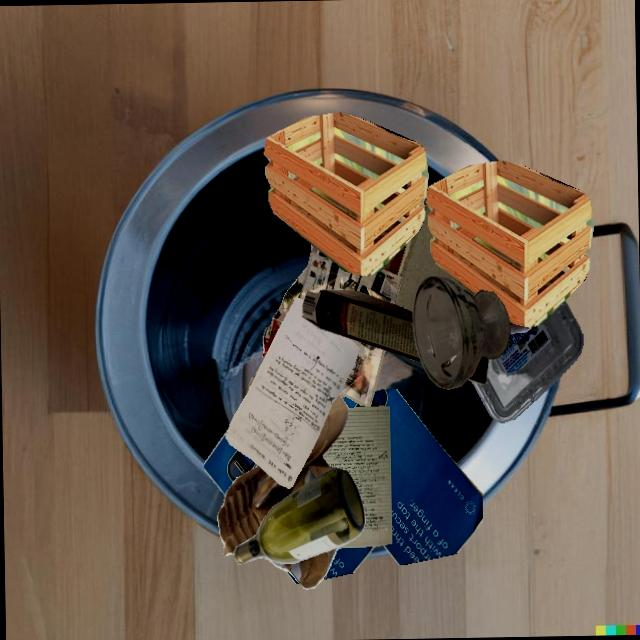cardboard: (251, 451, 359, 563), (226, 370, 316, 490), (301, 289, 421, 362), (395, 203, 474, 312)
combustible waste: (425, 160, 593, 327), (263, 112, 428, 276)
glass: (233, 467, 365, 564), (412, 276, 510, 389), (381, 242, 407, 275), (509, 322, 532, 333)
paper: (225, 296, 359, 488), (342, 389, 482, 564), (262, 243, 402, 357), (225, 495, 352, 584), (321, 405, 391, 548), (203, 428, 257, 495), (339, 337, 385, 406)
plastic: (471, 300, 582, 423)
